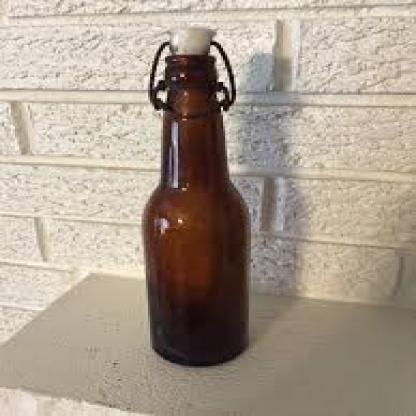trash: (144, 27, 249, 364)
